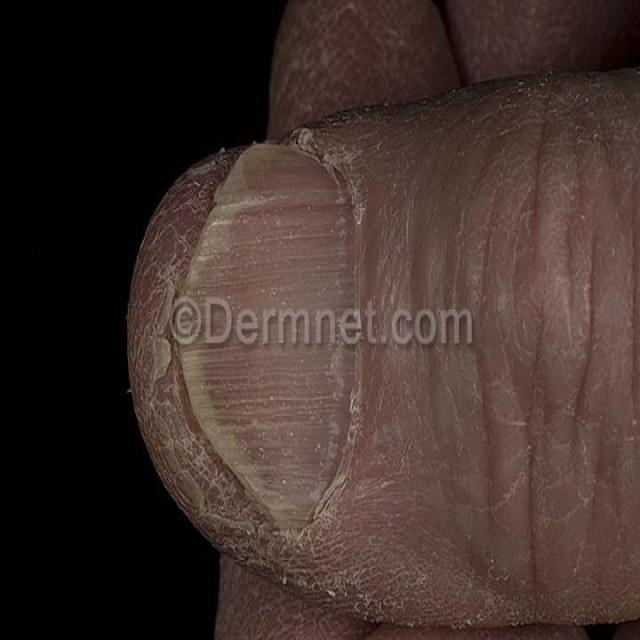Nail: (175, 141, 355, 529)
